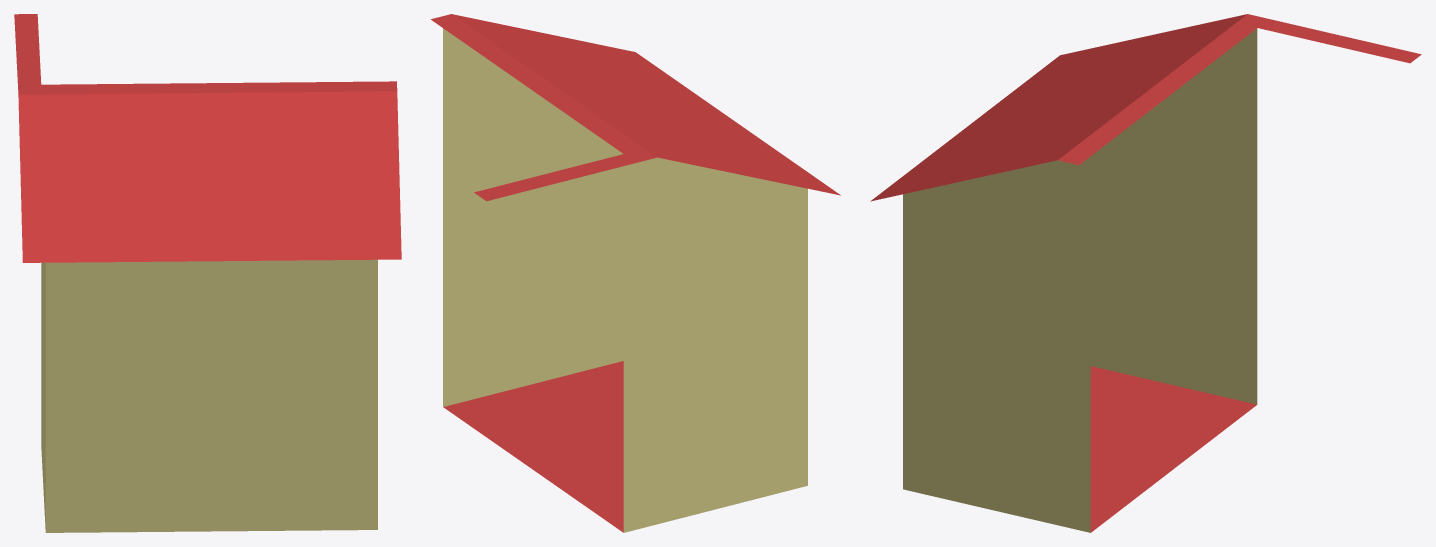
The picture shows the model from 3 angles, left to right: view 1: azimuth 30°, elevation 25°; view 2: azimuth 150°, elevation 25°; view 3: azimuth 270°, elevation 25°; orthographic projection. The views are drawn at different scales.
Bounding box in the file's own units: 9.46 × 11.32 × 8.53.
